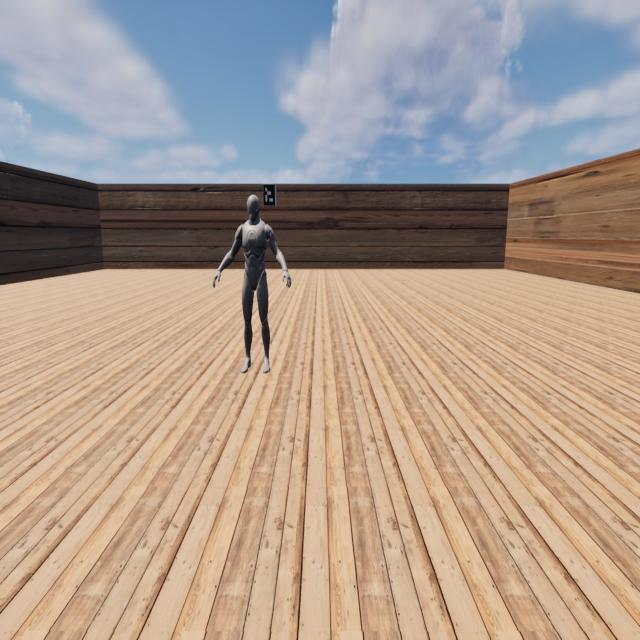aruco: (264, 184, 274, 205)
hip: (243, 270, 268, 280)
